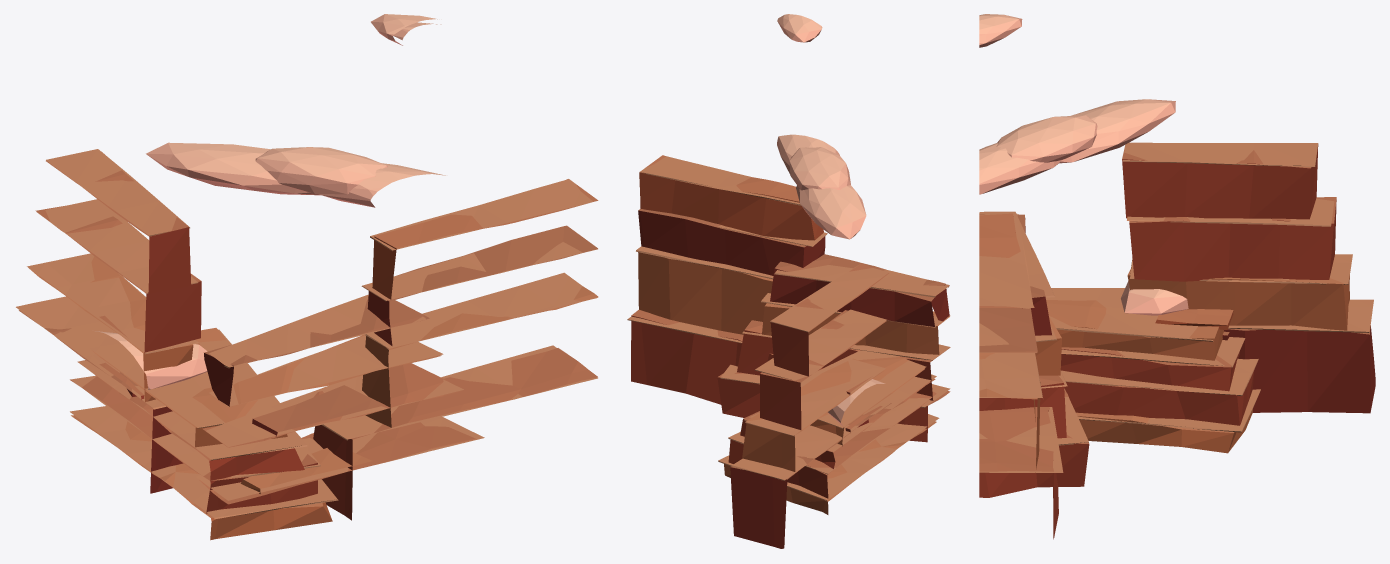
3 views of the same model, side by side, from view 1: azimuth 30°, elevation 25°; view 2: azimuth 150°, elevation 25°; view 3: azimuth 270°, elevation 25° (orthographic). The views are drawn at different scales.
Visible parts, largest first — view 1: scene.6.1 (×2); view 2: scene.6.1 (×2); view 3: scene.6.1 (×2).
Boxes of the visible parts, x1,y1,x2,y2 form: scene.6.1 (×2): [16, 14, 598, 540]; scene.6.1 (×2): [627, 14, 950, 548]; scene.6.1 (×2): [979, 14, 1375, 539].
Bounding box in the file's own units: 62.5 × 78.36 × 62.5.
